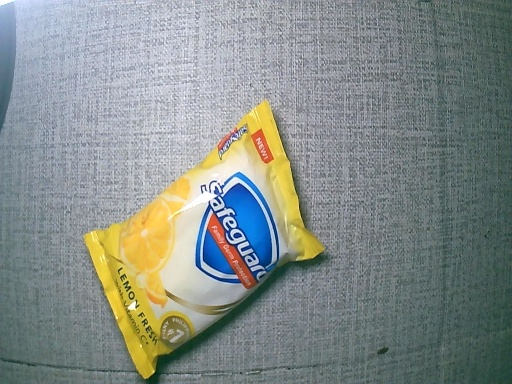plastic: (83, 96, 329, 384)
